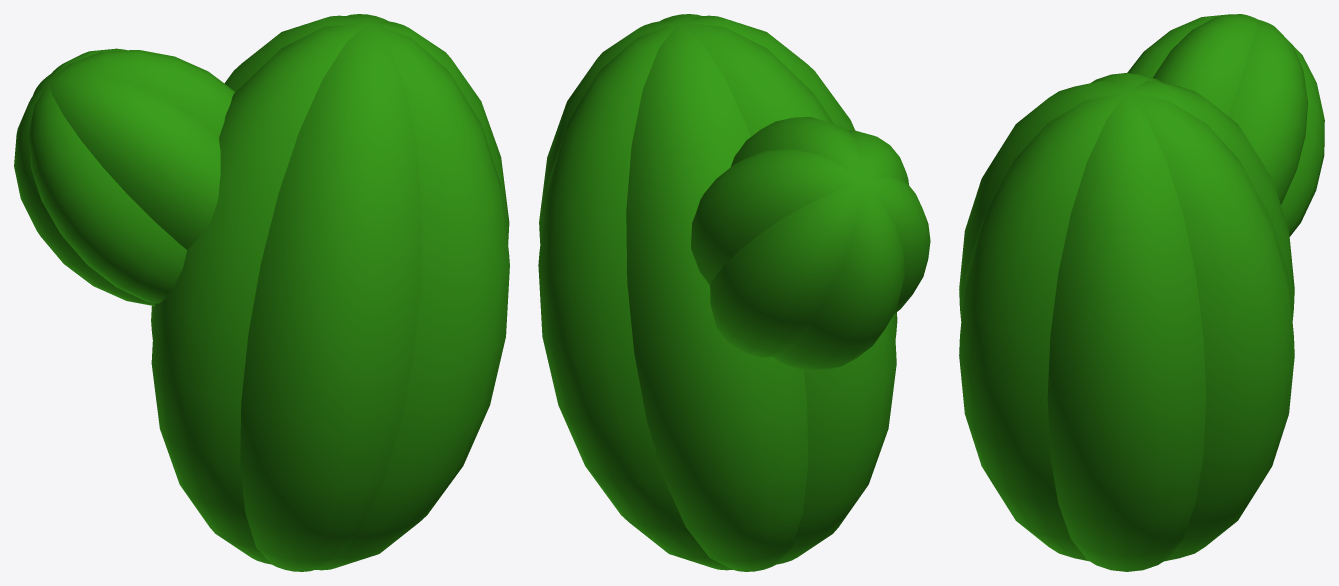
Rendered from Cacti A.dae.
The picture shows the model from 3 angles, left to right: view 1: azimuth 30°, elevation 25°; view 2: azimuth 150°, elevation 25°; view 3: azimuth 270°, elevation 25°; orthographic projection. The views are drawn at different scales.
Parts seen in each view (by area): view 1: Sphere; view 2: Sphere; view 3: Sphere.
Boxes of the visible parts, left/top/right/bottom form: Sphere: left=14, top=14, right=509, bottom=571; Sphere: left=538, top=14, right=930, bottom=571; Sphere: left=959, top=14, right=1324, bottom=571.
Bounding box in the file's own units: 11.78 × 14.16 × 9.47.
Materials: 1 (1 with a texture image).
